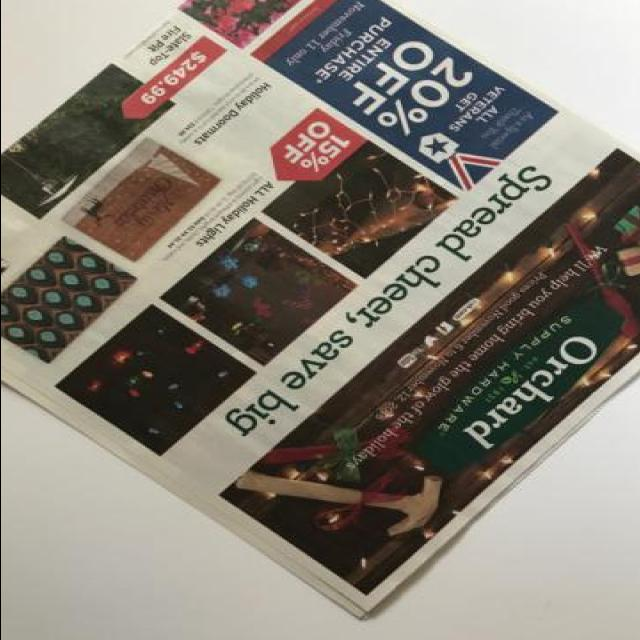kertas: (0, 0, 640, 622)
